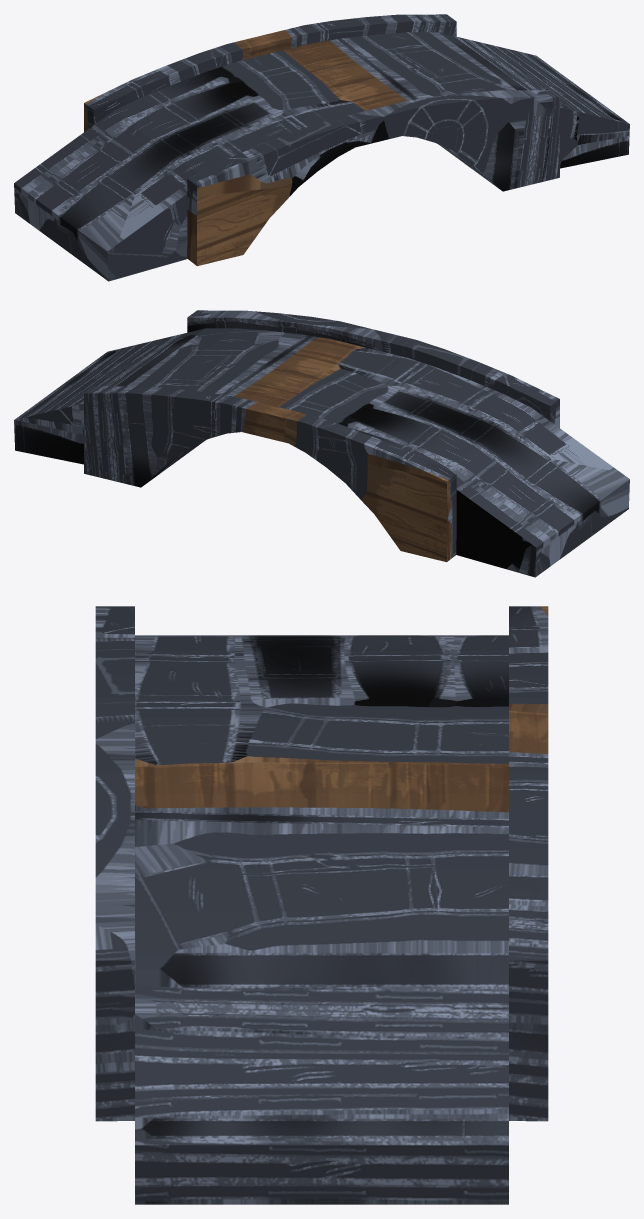
Rendered from bridge.fbx.
3 views of the same model, one above another, from view 1: azimuth 30°, elevation 25°; view 2: azimuth 150°, elevation 25°; view 3: azimuth 270°, elevation 25° (orthographic). The views are drawn at different scales.
Visible parts, largest first — view 1: pCube1_lambert1_0; view 2: pCube1_lambert1_0; view 3: pCube1_lambert1_0.
Part boxes in pixels (x1,y1,x2,y2): pCube1_lambert1_0: (14, 14, 629, 281); pCube1_lambert1_0: (14, 310, 629, 577); pCube1_lambert1_0: (95, 606, 548, 1204).
Size of the model in its own units: 3175 by 626 by 1191.
